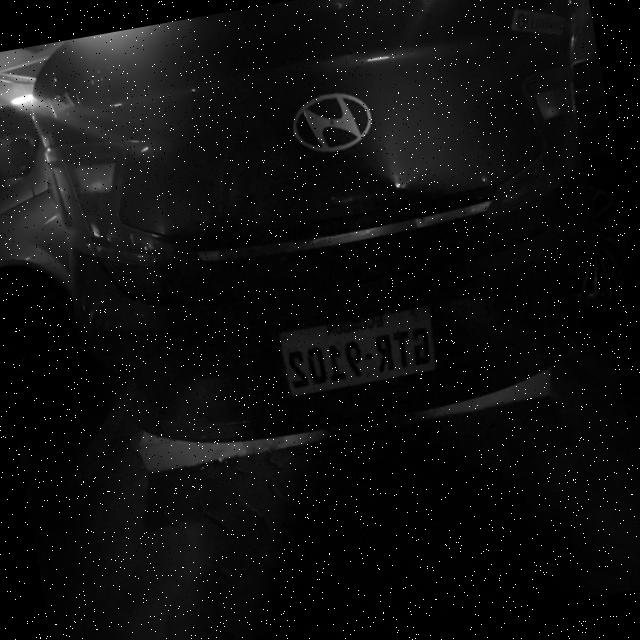Placa: (279, 307, 435, 396)
